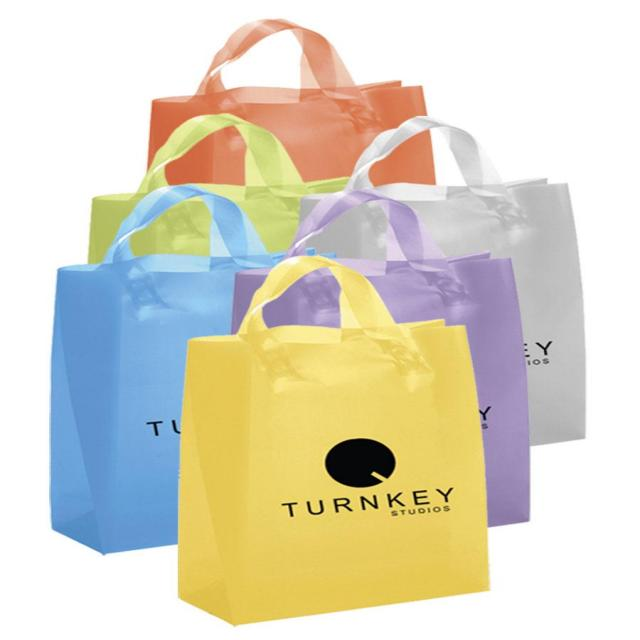plastic_bag: (225, 177, 537, 529), (183, 280, 494, 618), (300, 122, 604, 456), (51, 184, 268, 548), (115, 13, 449, 183), (87, 107, 352, 279)
